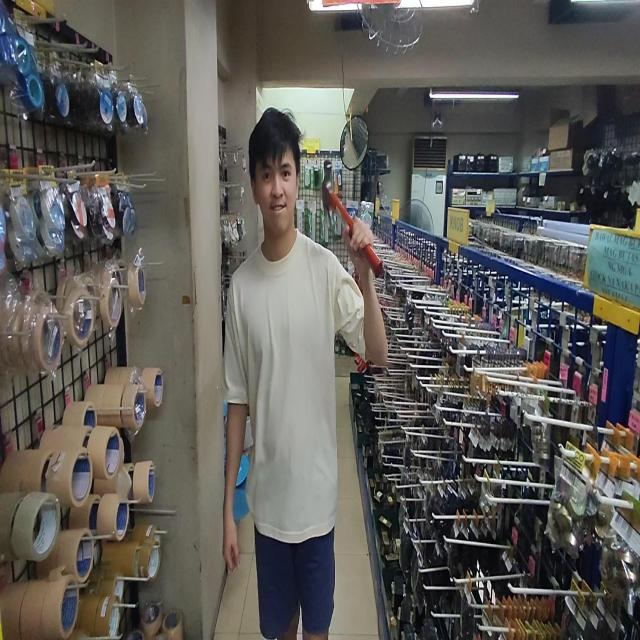hammer: (322, 159, 385, 276)
